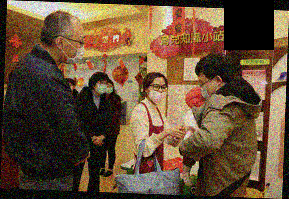with_mask: (63, 32, 85, 66), (148, 82, 168, 104), (198, 79, 217, 100), (96, 81, 108, 96), (106, 84, 114, 97)
